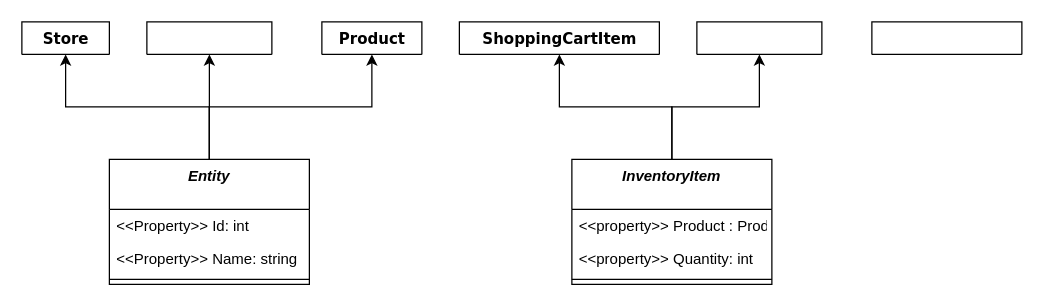
The diagram is 1044 pixels wide and 306 high, and some of its shapes have lost their labels. Each missing label, with the centre of its shape:
"Customer" belongs at (209,37).
"ShoppingCart" belongs at (946,37).
"StoreItem" belongs at (759,37).
